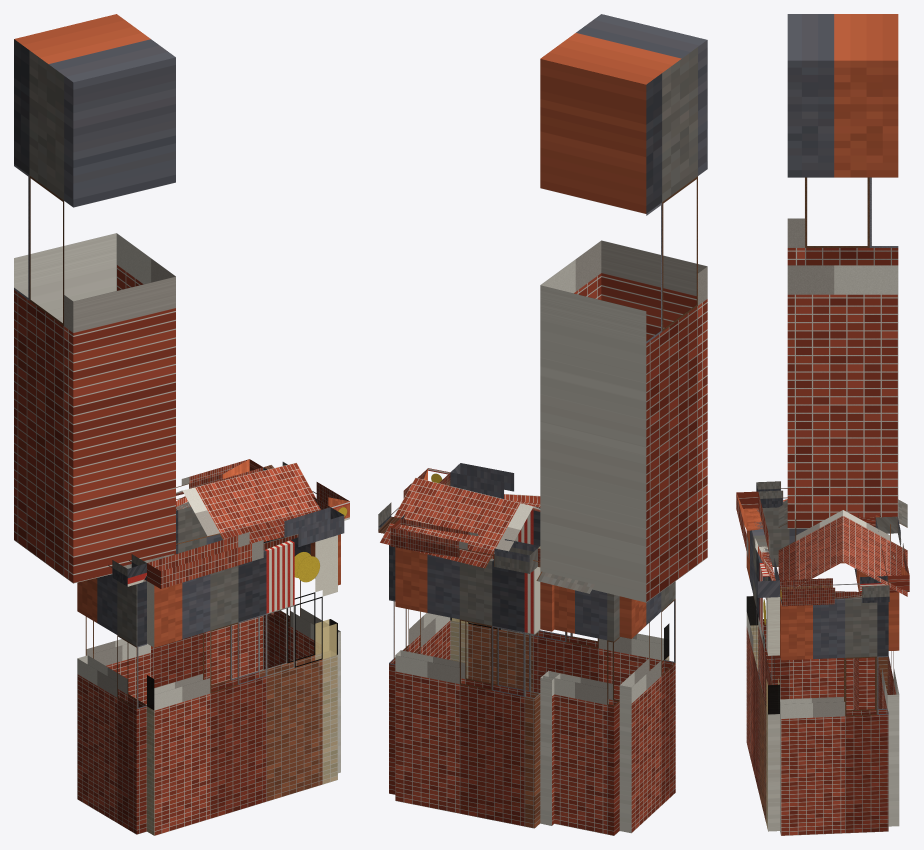
3 views of the same model, side by side, from view 1: azimuth 30°, elevation 25°; view 2: azimuth 150°, elevation 25°; view 3: azimuth 270°, elevation 25° (orthographic). The views are drawn at different scales.
Parts seen in each view (by area): view 1: 1106965474__chimney_0_xb, 1106965474__wall_1_xb, 1106965474__wall_2_xb, 1106965474_roof_-1_xb, 1106965474__wall_5_xb, 1106965474__cornice_1, 1106965474__wall_0_xb, 1106965474__wall_3_xb, 1106965474__cornice_5, 1106965474__wall_1_xf, 1106965474__cornice_0, 1106965474__cornice_2; view 2: 1106965474__chimney_0_xb, 1106965474__wall_5_xb, 1106965474__wall_3_xb, 1106965474__wall_2_xb, 1106965474__wall_1_xb, 1106965474_roof_1_xb, 1106965474__wall_0_xb, 1106965474__wall_4_xb, 1106965474__cornice_5, 1106965474__cornice_1, 1106965474__cornice_0; view 3: 1106965474__chimney_0_xb, 1106965474__wall_0_xb, 1106965474__wall_1_xb, 1106965474__wall_2_xb, 1106965474_roof_-1_xb, 1106965474_roof_1_xb, 1106965474__wall_5_xb, 1106965474__cornice_0, 1106965474__cornice_1, 1106965474__cornice_5, 1106965474__wall_4_xb, 1106965474__cornice_2 (+2 smaller).
Boxes of the visible parts, x1=… form: 1106965474__chimney_0_xb: x1=14, y1=14, x2=175, y2=583; 1106965474__wall_1_xb: x1=147, y1=535, x2=337, y2=835; 1106965474__wall_2_xb: x1=77, y1=574, x2=146, y2=834; 1106965474_roof_-1_xb: x1=123, y1=462, x2=320, y2=568; 1106965474__wall_5_xb: x1=151, y1=502, x2=263, y2=688; 1106965474__cornice_1: x1=147, y1=507, x2=344, y2=588; 1106965474__wall_0_xb: x1=263, y1=534, x2=340, y2=773; 1106965474__wall_3_xb: x1=85, y1=616, x2=150, y2=704; 1106965474__cornice_5: x1=176, y1=459, x2=263, y2=510; 1106965474__wall_1_xf: x1=147, y1=619, x2=337, y2=709; 1106965474__cornice_0: x1=263, y1=462, x2=349, y2=520; 1106965474__cornice_2: x1=108, y1=554, x2=146, y2=586; 1106965474__chimney_0_xb: x1=540, y1=14, x2=707, y2=602; 1106965474__wall_5_xb: x1=395, y1=547, x2=540, y2=828; 1106965474__wall_3_xb: x1=543, y1=585, x2=619, y2=835; 1106965474__wall_2_xb: x1=619, y1=581, x2=675, y2=833; 1106965474__wall_1_xb: x1=450, y1=502, x2=669, y2=700; 1106965474_roof_1_xb: x1=380, y1=477, x2=594, y2=593; 1106965474__wall_0_xb: x1=389, y1=545, x2=450, y2=794; 1106965474__wall_4_xb: x1=540, y1=582, x2=560, y2=825; 1106965474__cornice_5: x1=390, y1=518, x2=540, y2=573; 1106965474__cornice_1: x1=450, y1=463, x2=540, y2=507; 1106965474__cornice_0: x1=378, y1=468, x2=450, y2=533; 1106965474__chimney_0_xb: x1=787, y1=14, x2=898, y2=528; 1106965474__wall_0_xb: x1=780, y1=596, x2=888, y2=835; 1106965474__wall_1_xb: x1=746, y1=508, x2=779, y2=831; 1106965474__wall_2_xb: x1=762, y1=507, x2=853, y2=710; 1106965474_roof_-1_xb: x1=778, y1=499, x2=842, y2=589; 1106965474_roof_1_xb: x1=843, y1=499, x2=907, y2=596; 1106965474__wall_5_xb: x1=878, y1=592, x2=899, y2=826; 1106965474__cornice_0: x1=780, y1=576, x2=889, y2=606; 1106965474__cornice_1: x1=736, y1=491, x2=779, y2=597; 1106965474__cornice_5: x1=875, y1=516, x2=909, y2=592; 1106965474__wall_4_xb: x1=859, y1=571, x2=874, y2=709; 1106965474__cornice_2: x1=756, y1=481, x2=787, y2=507.
Bounding box in the file's own units: 0.3996 × 1.05 × 0.2349.
1 material, 1 textured.
